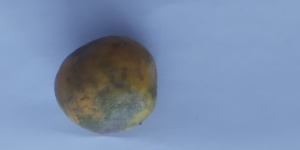BAD: (52, 35, 159, 136)
